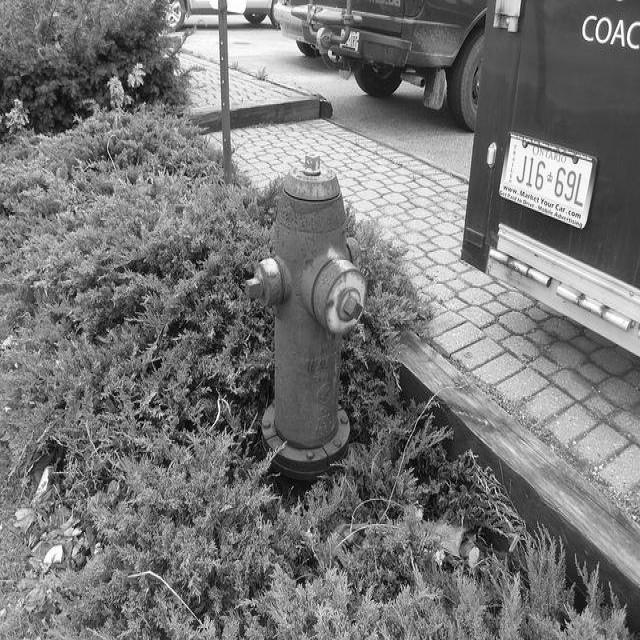vehicle: (456, 0, 640, 362), (458, 0, 640, 361), (275, 0, 489, 124), (151, 2, 291, 32), (274, 6, 338, 71)
